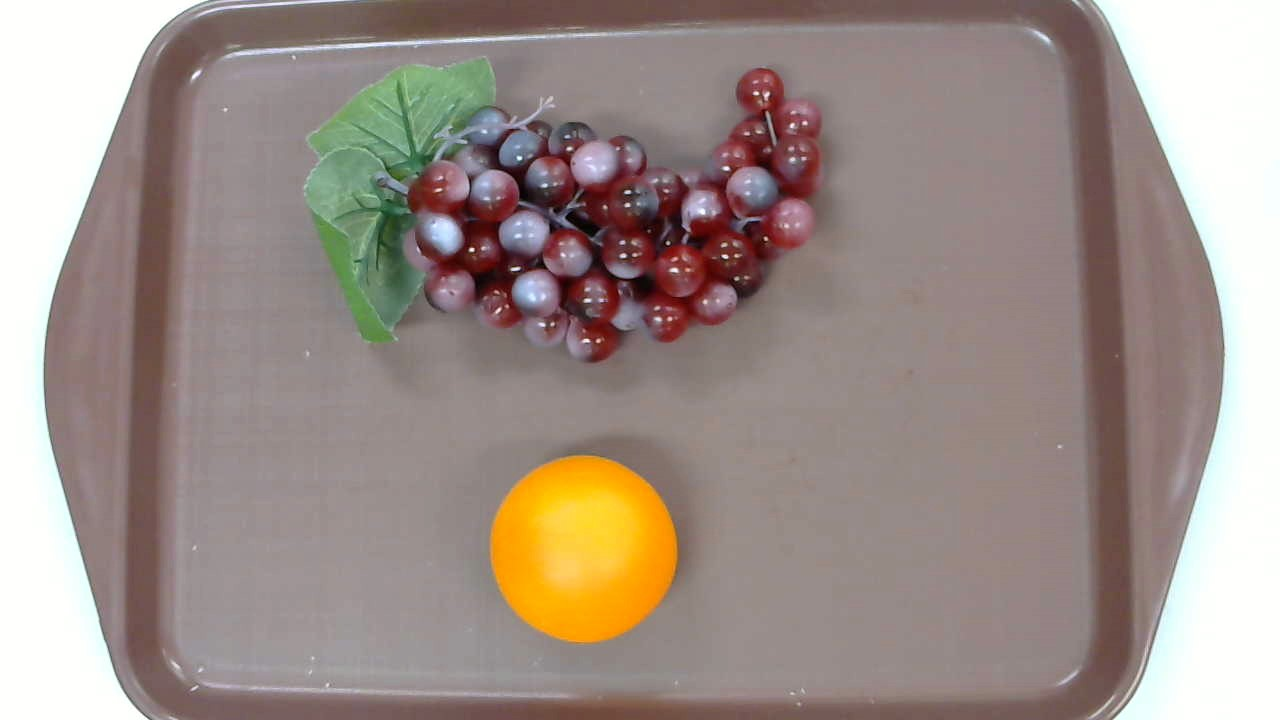bun: (489, 454, 678, 642)
grape: (302, 56, 822, 364)
